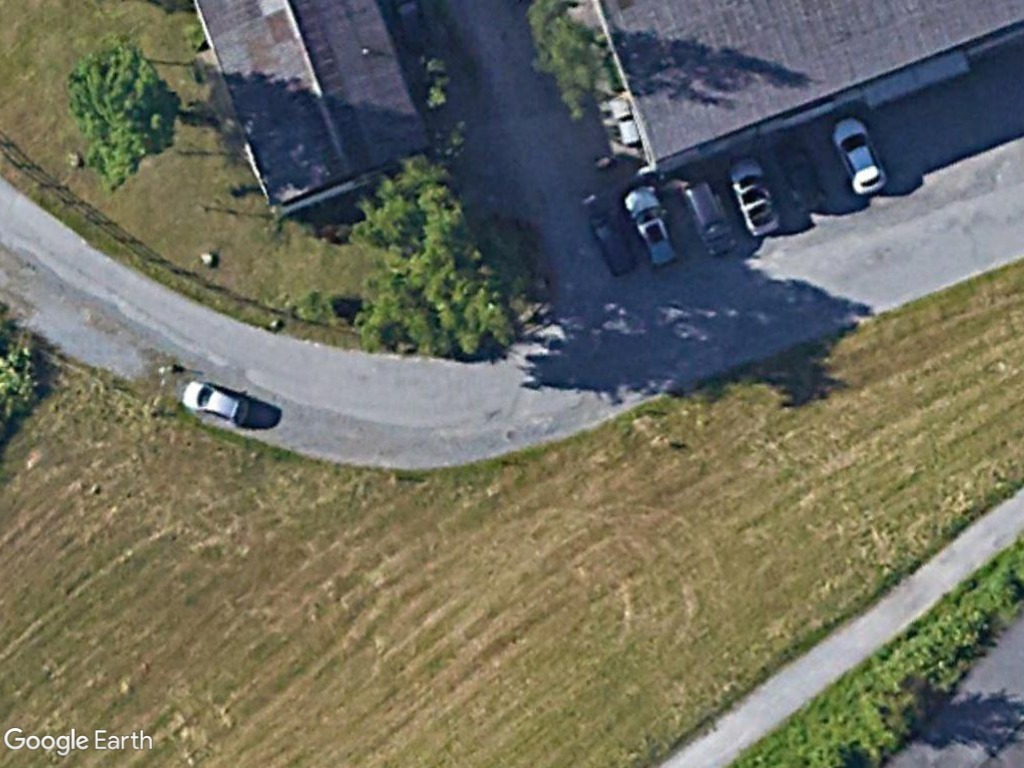car: (620, 180, 682, 274), (829, 117, 889, 197), (175, 377, 252, 429)
